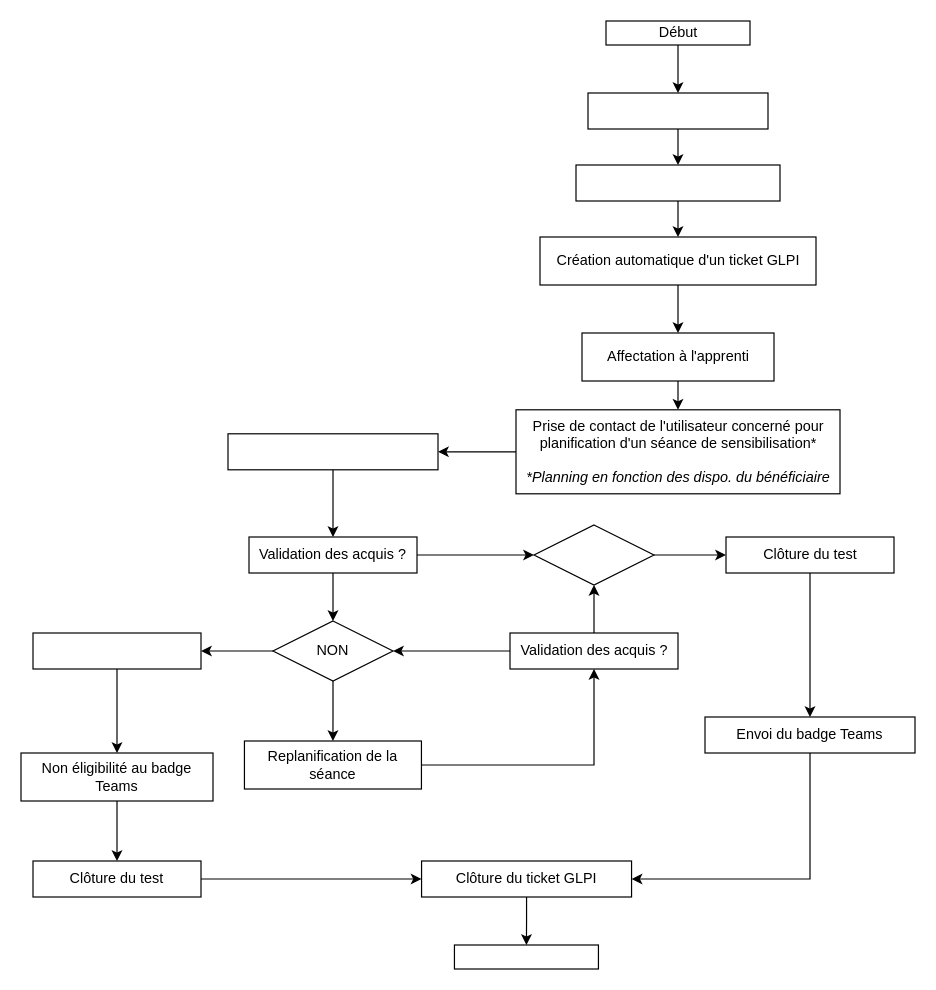
Image size: 936x990. Some labels were removed from this diagram. The centre of each missing label's shape, as x and y in pixels:
"Abandon par l'utilisateur" belongs at point 116,650.
"Envoi du formulaire" belongs at point 677,110.
"Fin" belongs at point 525,956.
"OUI" belongs at point 593,554.
"Planification de la séance" belongs at point 332,451.
"Score inférieur à 10/16" belongs at point 677,182.
